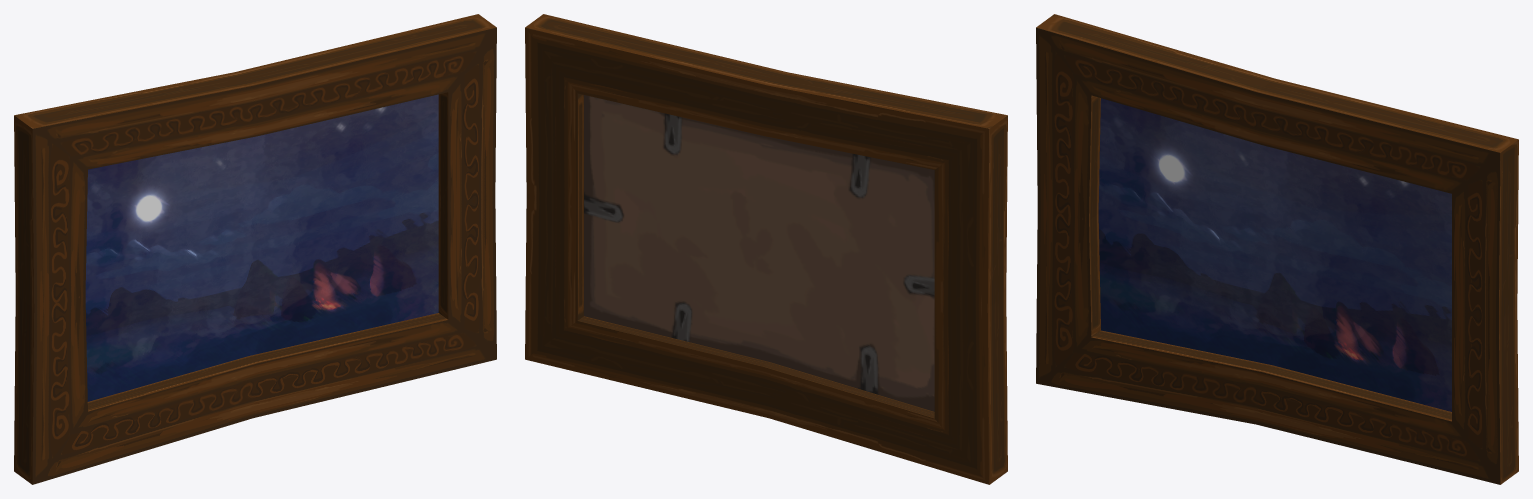
The model's file is SM_PROP_painting_interior_04.fbx.
3 renders of one model, left to right at view 1: azimuth 30°, elevation 25°; view 2: azimuth 150°, elevation 25°; view 3: azimuth 330°, elevation 25°, orthographic.
Parts seen in each view (by area): view 1: SM_PROP_painting_interior_04; view 2: SM_PROP_painting_interior_04; view 3: SM_PROP_painting_interior_04.
Boxes of the visible parts, bbox=[...] form: SM_PROP_painting_interior_04: bbox=[14, 14, 496, 484]; SM_PROP_painting_interior_04: bbox=[525, 14, 1007, 484]; SM_PROP_painting_interior_04: bbox=[1036, 14, 1518, 484].
Size of the model in its own units: 109 by 79.84 by 7.52.
